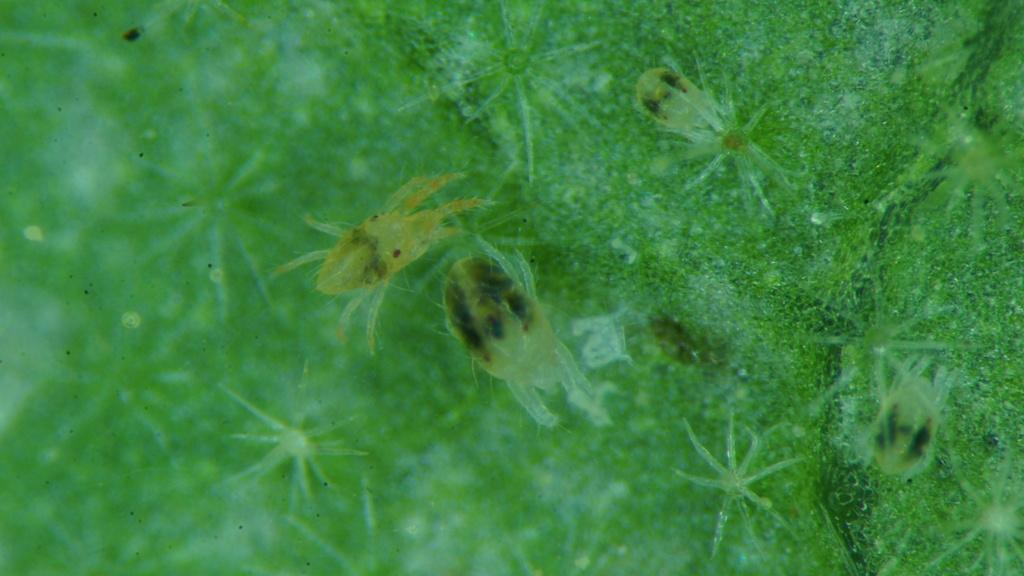tiny_pests: (413, 217, 628, 459), (267, 141, 478, 334), (596, 51, 734, 163)
